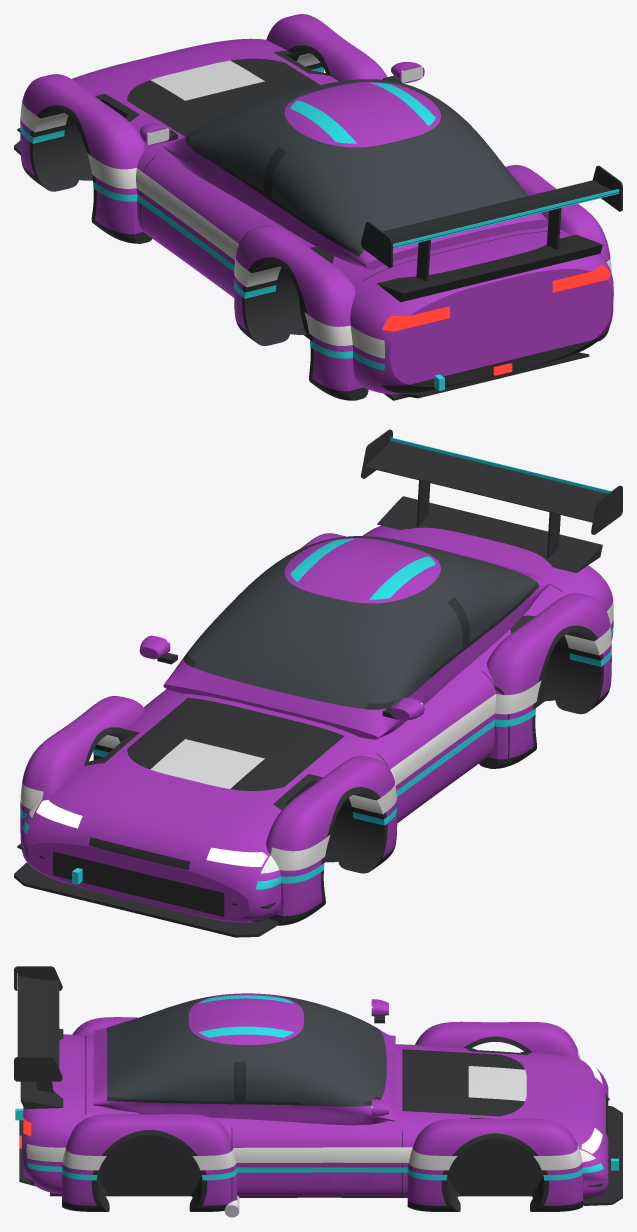
Rendered from body.glb.
The picture shows the model from 3 angles, top to bottom: view 1: azimuth 30°, elevation 25°; view 2: azimuth 150°, elevation 25°; view 3: azimuth 270°, elevation 25°; orthographic projection. The views are drawn at different scales.
Visible parts, largest first — view 1: Livery, Carbon, Glass, LiveryWhite, Accent, Metal, Light; view 2: Livery, Carbon, Glass, LiveryWhite, Accent, Metal, Headlight; view 3: Livery, Carbon, Glass, LiveryWhite, Accent, Metal, Headlight.
Boxes of the visible parts, x1=… form: Livery: x1=20, y1=14, x2=613, y2=394; Carbon: x1=14, y1=45, x2=622, y2=400; Glass: x1=186, y1=79, x2=527, y2=251; LiveryWhite: x1=20, y1=53, x2=613, y2=358; Accent: x1=20, y1=67, x2=619, y2=391; Metal: x1=147, y1=60, x2=422, y2=144; Light: x1=382, y1=264, x2=610, y2=375; Livery: x1=20, y1=525, x2=613, y2=922; Carbon: x1=14, y1=429, x2=622, y2=937; Glass: x1=184, y1=536, x2=535, y2=709; LiveryWhite: x1=20, y1=601, x2=613, y2=873; Accent: x1=20, y1=437, x2=613, y2=889; Metal: x1=150, y1=640, x2=422, y2=788; Headlight: x1=36, y1=800, x2=267, y2=866; Livery: x1=23, y1=993, x2=608, y2=1205; Carbon: x1=14, y1=966, x2=622, y2=1211; Glass: x1=107, y1=993, x2=386, y2=1106; LiveryWhite: x1=26, y1=1050, x2=595, y2=1170; Accent: x1=15, y1=973, x2=618, y2=1180; Metal: x1=224, y1=1006, x2=526, y2=1217; Headlight: x1=581, y1=1060, x2=602, y2=1153.
Bounding box in the file's own units: 2.04 × 1.25 × 4.58.
